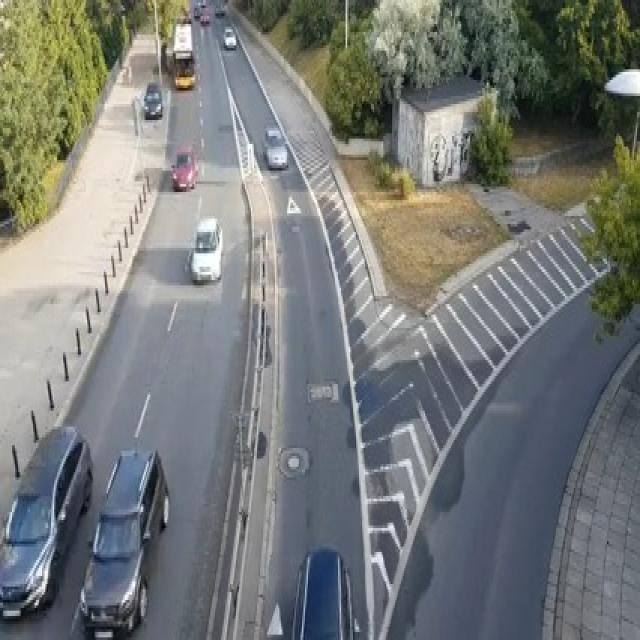car: (0, 424, 92, 621), (78, 446, 170, 638), (290, 544, 359, 637), (186, 216, 222, 283), (172, 144, 198, 189), (262, 125, 288, 168), (173, 51, 195, 88), (143, 83, 162, 117), (222, 24, 236, 48), (192, 0, 202, 16), (215, 3, 225, 16), (200, 11, 209, 24)
truck: (172, 13, 196, 88)
